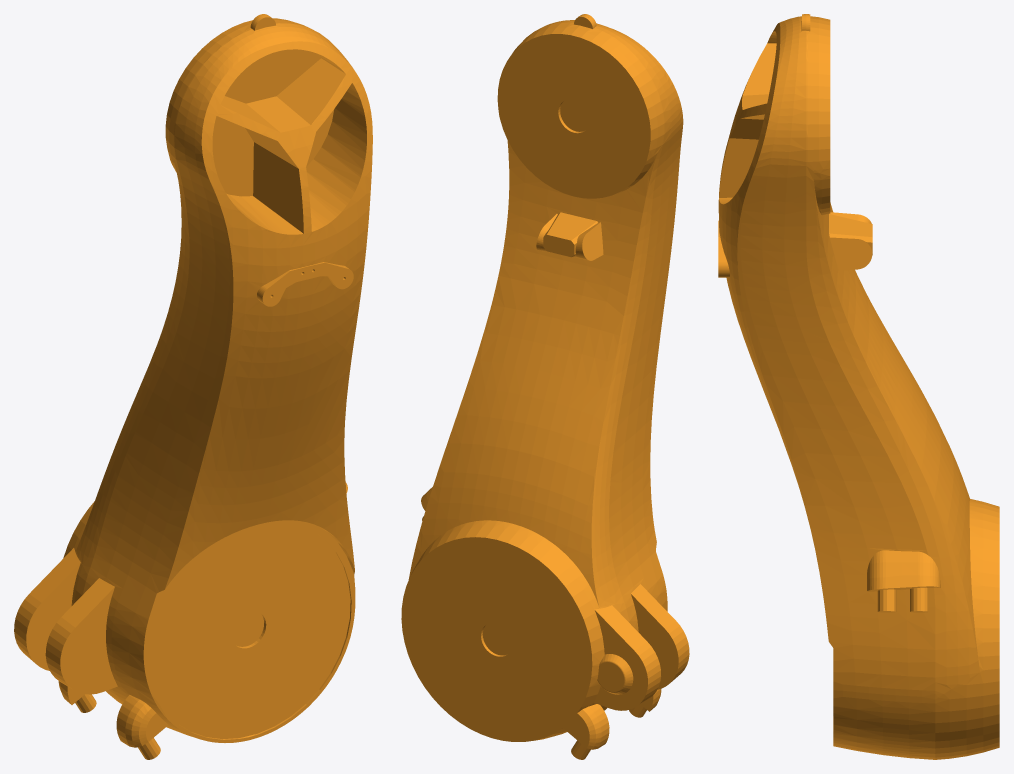
The model's file is KukaTitanLink2.dae.
The picture shows the model from 3 angles, left to right: view 1: azimuth 30°, elevation 25°; view 2: azimuth 150°, elevation 25°; view 3: azimuth 270°, elevation 25°; orthographic projection. The views are drawn at different scales.
Parts seen in each view (by area): view 1: KUKATitanLink2; view 2: KUKATitanLink2; view 3: KUKATitanLink2.
Boxes of the visible parts, box(x1,y1,x2,y2) form: KUKATitanLink2: box(14, 14, 372, 759); KUKATitanLink2: box(401, 14, 689, 759); KUKATitanLink2: box(718, 14, 999, 759).
Bounding box in the file's own units: 0.7988 × 0.699 × 2.01.
